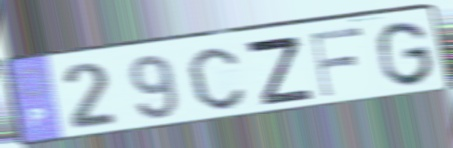2: (60, 60, 121, 133)
9: (124, 52, 183, 122)
C: (185, 45, 248, 112)
F: (308, 24, 365, 100)
G: (375, 18, 436, 89)
Z: (242, 33, 317, 108)
